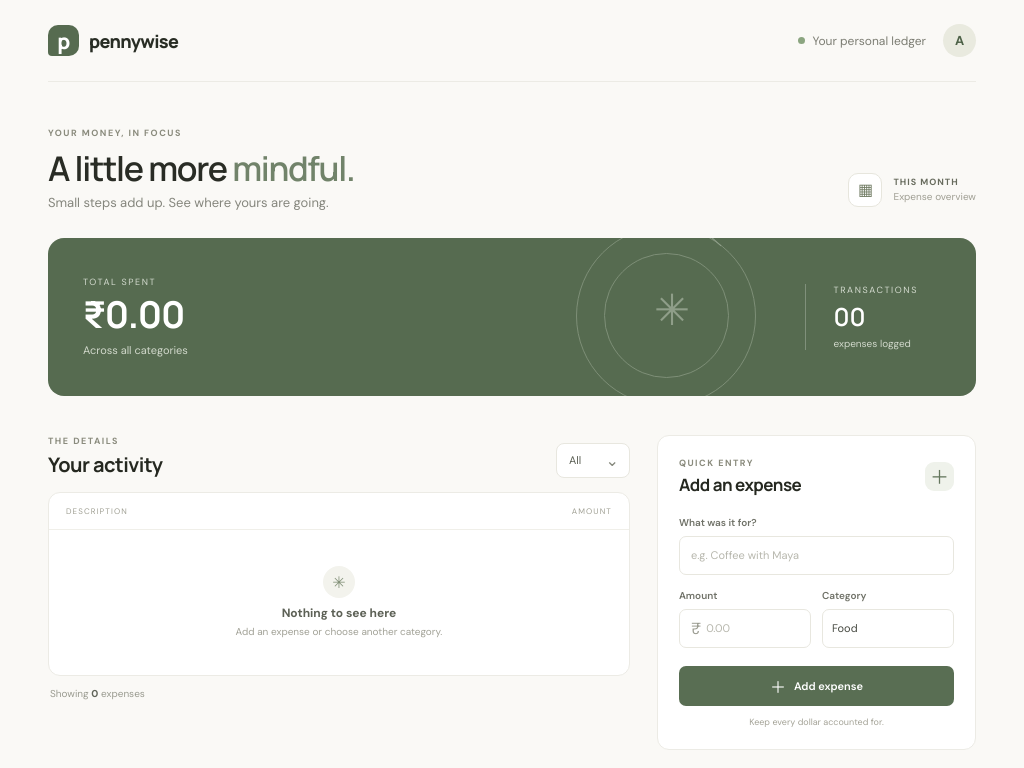
it: Expense tracker › deletes an expense
Type "Lunch" into the field with test id "title" at [817, 556], box 679,536 -> 954,575
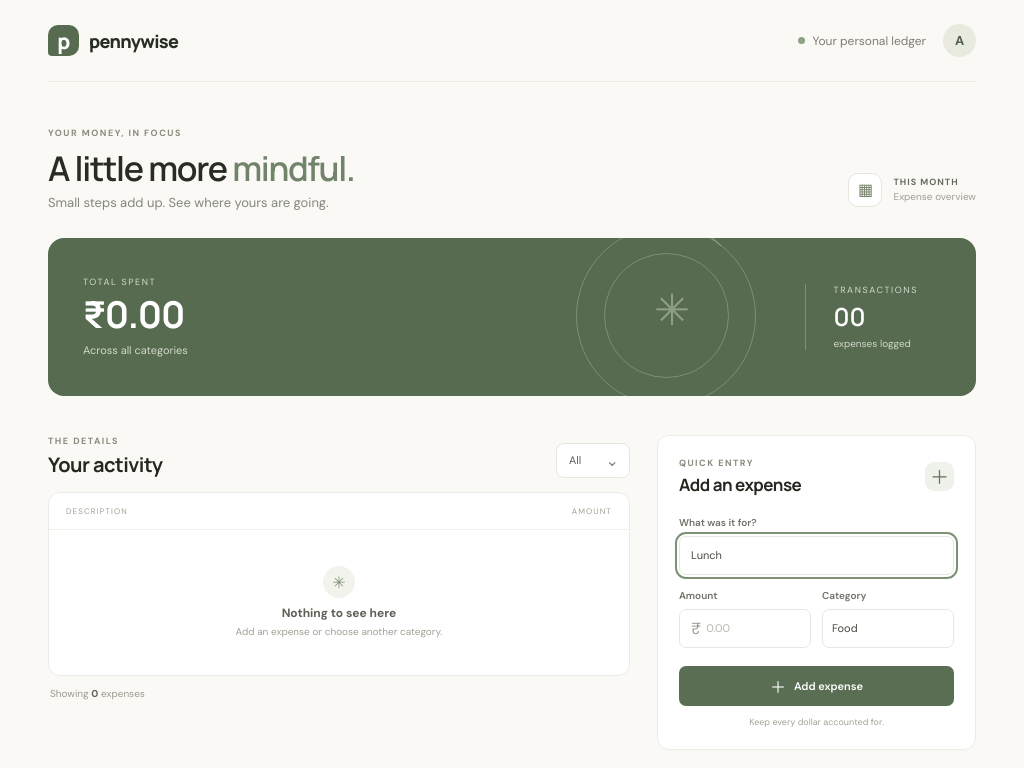
Type "250" into the number field with test id "amount" at [758, 629], box 706,610 -> 810,647
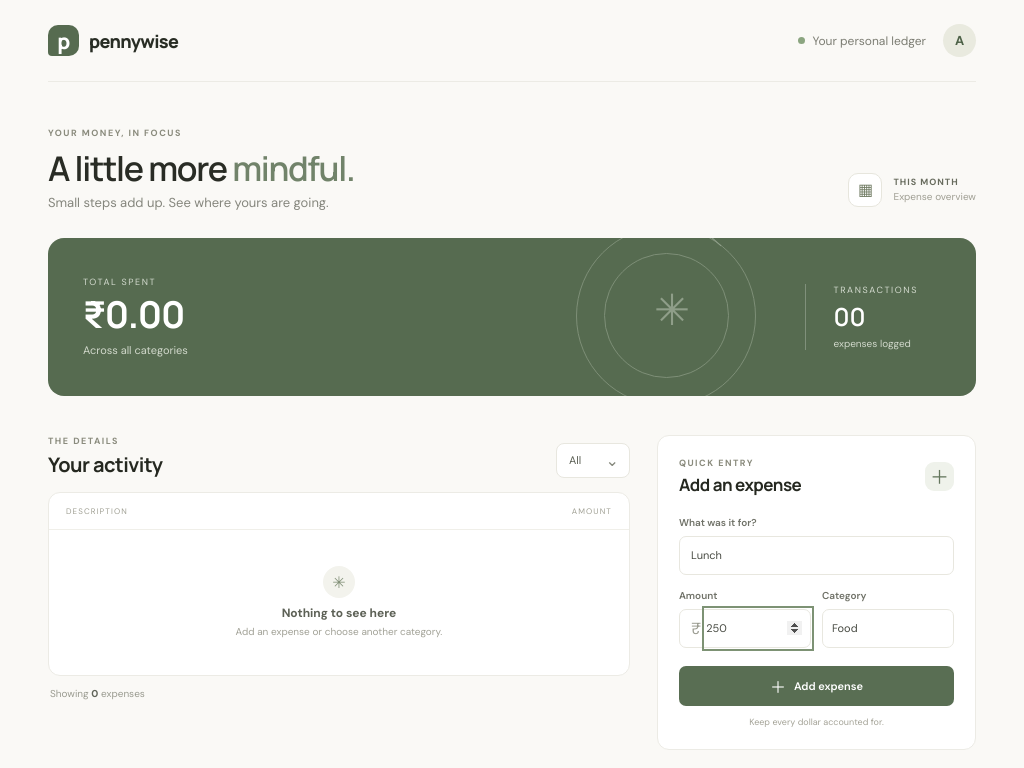
Click the button with test id "add-expense" at [817, 686], box 679,666 -> 954,706
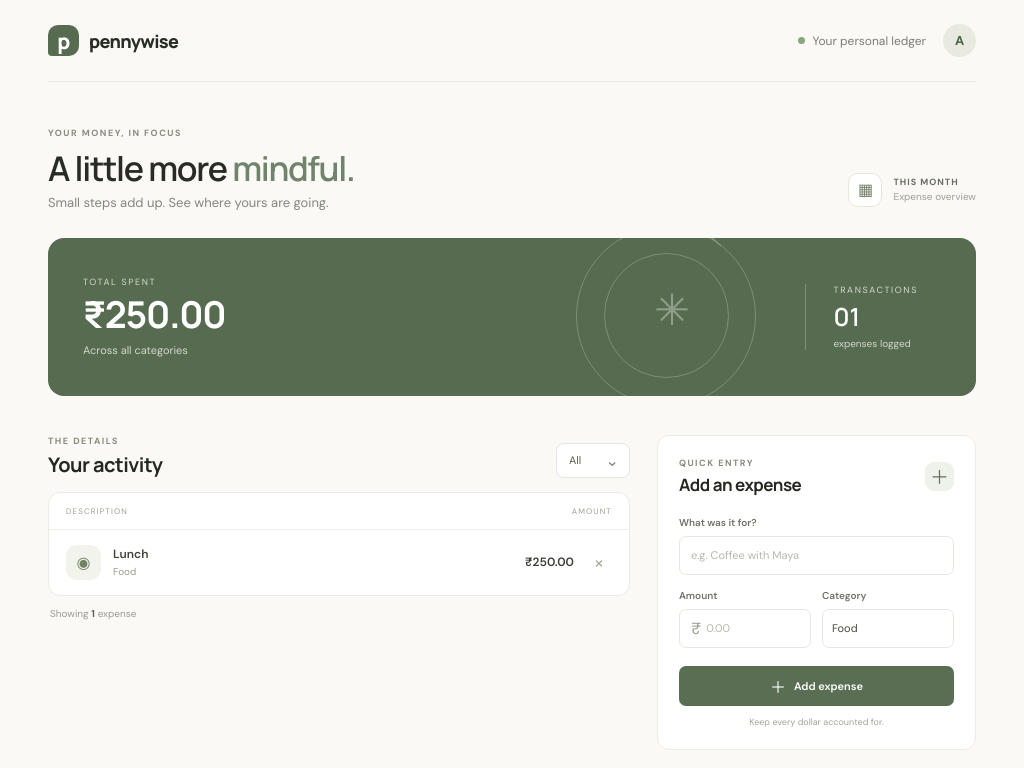
Click the button with test id "delete-expense" at [599, 562], box 586,549 -> 612,575
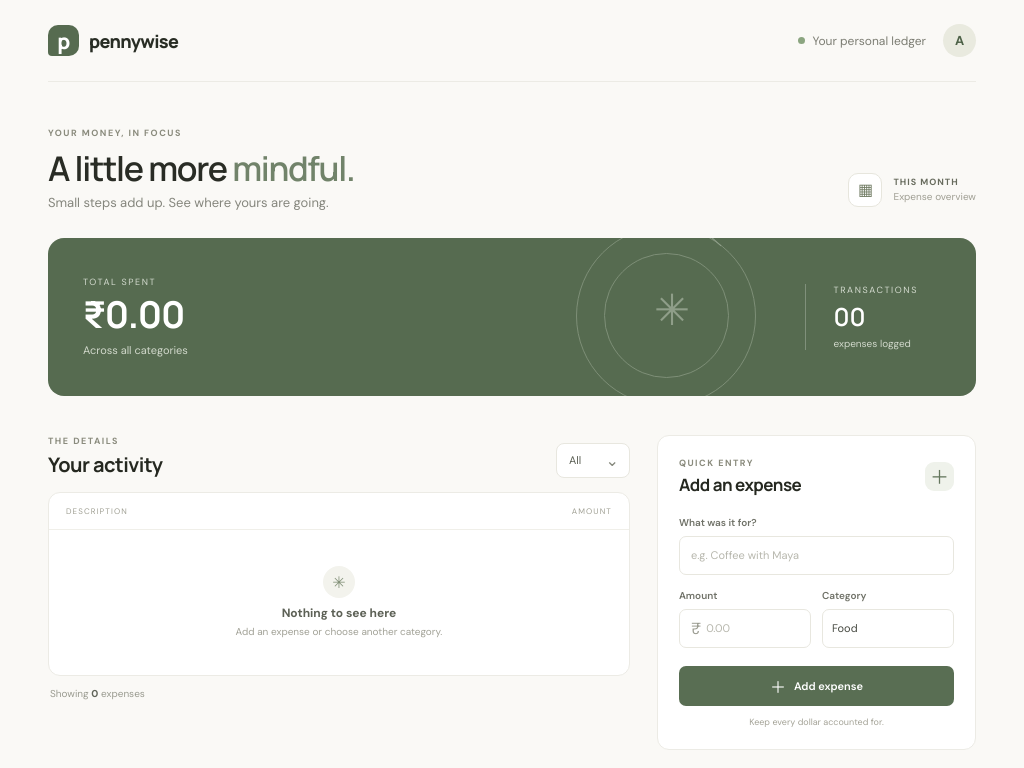
Now the list item with test id "expense-item" is gone
Now the text with test id "total" reads "₹0.00", box 83,289 -> 184,339
